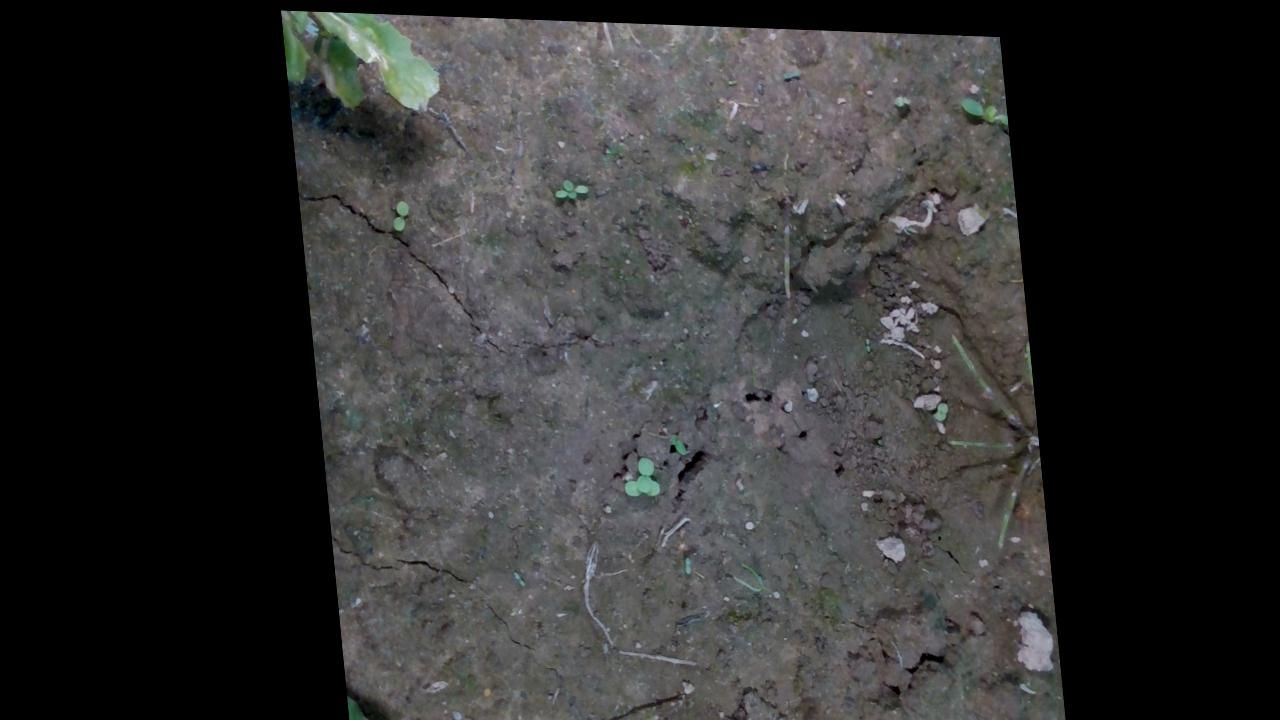weed: (546, 171, 588, 199), (386, 197, 409, 230)
